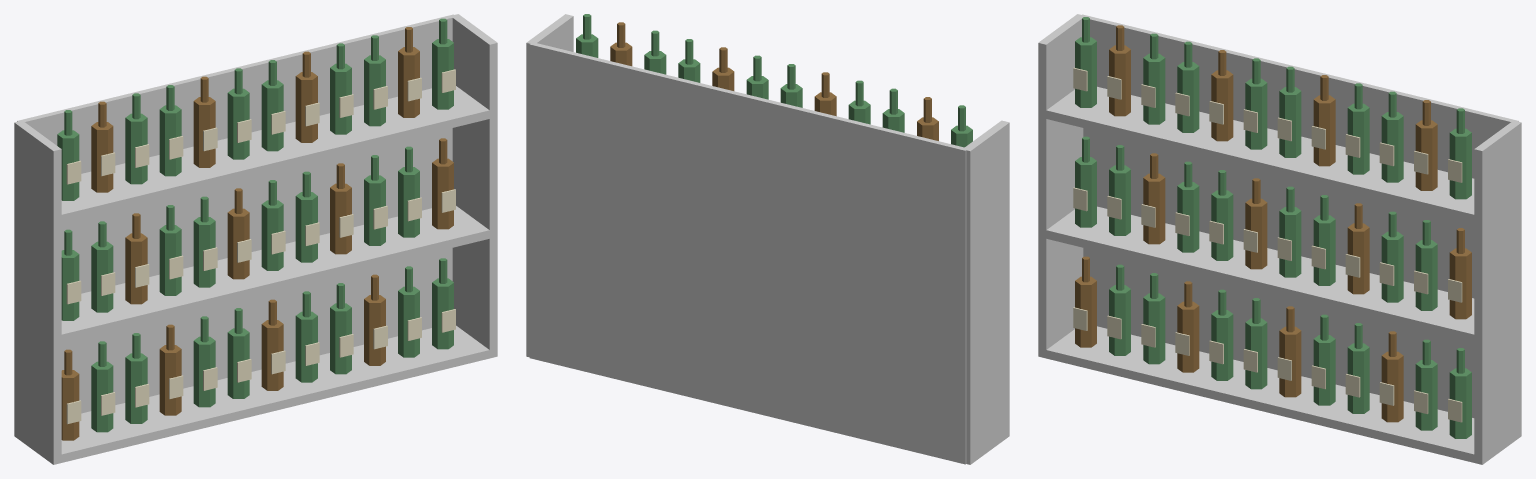
Rendered from bottle_shelf.glb.
The picture shows the model from 3 angles, left to right: view 1: azimuth 30°, elevation 25°; view 2: azimuth 150°, elevation 25°; view 3: azimuth 330°, elevation 25°; orthographic projection.
Parts seen in each view (by area): view 1: bottle_shelf; view 2: bottle_shelf; view 3: bottle_shelf.
Boxes of the visible parts, x1,y1,x2,y2 form: bottle_shelf: [14, 14, 497, 464]; bottle_shelf: [526, 14, 1009, 464]; bottle_shelf: [1038, 14, 1521, 464].
Size of the model in its own units: 1.63 by 1.17 by 0.255.
